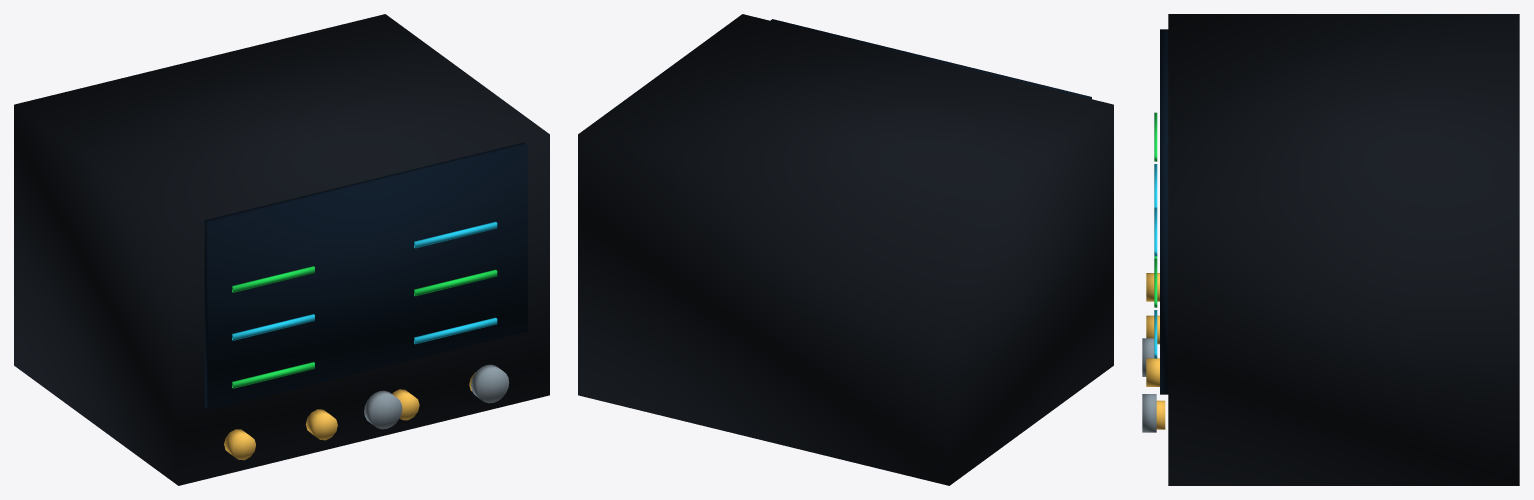
The model's file is 45_L94_ProtectedBenchPowerSupply.fbx.
The picture shows the model from 3 angles, left to right: view 1: azimuth 30°, elevation 25°; view 2: azimuth 150°, elevation 25°; view 3: azimuth 270°, elevation 25°; orthographic projection. The views are drawn at different scales.
Visible parts, largest first — view 1: L94_ProtectedBenchPowerSupply, L94_ProtectedBenchPowerSupply_Part_0005; view 2: L94_ProtectedBenchPowerSupply; view 3: L94_ProtectedBenchPowerSupply, L94_ProtectedBenchPowerSupply_Part_0005.
Boxes of the visible parts, x1,y1,x2,y2 form: L94_ProtectedBenchPowerSupply: [14, 14, 549, 485]; L94_ProtectedBenchPowerSupply_Part_0005: [364, 364, 509, 429]; L94_ProtectedBenchPowerSupply: [578, 14, 1113, 485]; L94_ProtectedBenchPowerSupply: [1146, 14, 1519, 485]; L94_ProtectedBenchPowerSupply_Part_0005: [1142, 338, 1156, 432].
Bounding box in the file's own units: 73 × 49 × 60.15.
